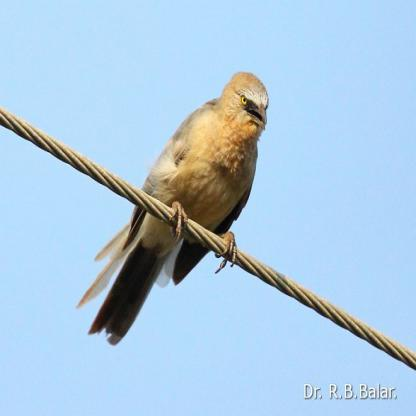Burung: (75, 72, 269, 344)
